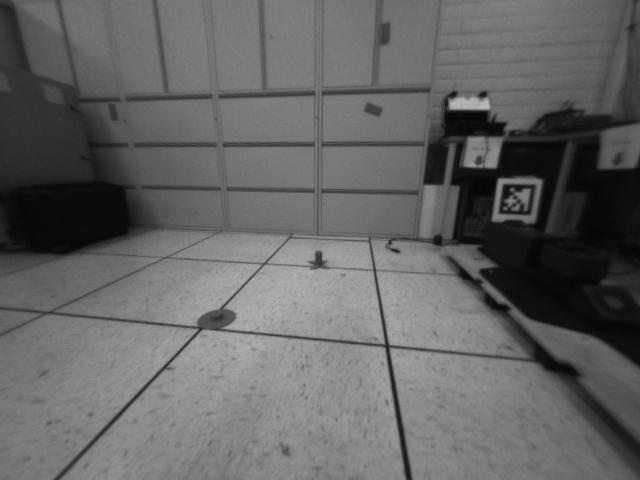X: (307, 249, 331, 272)
